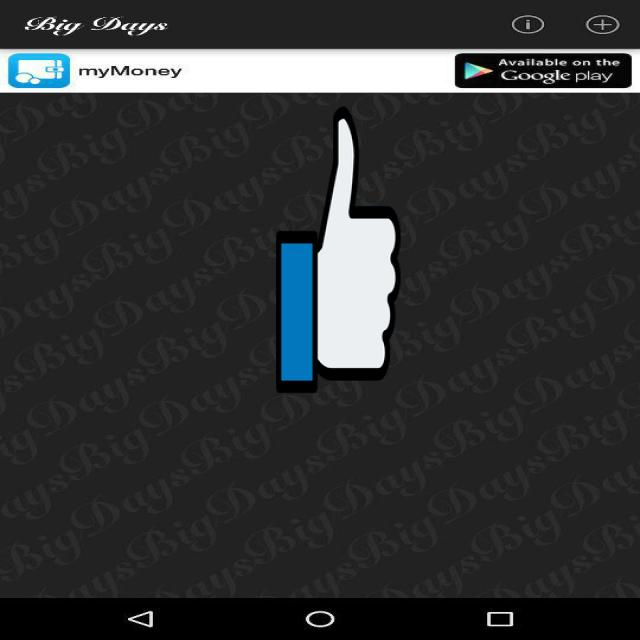privacy zuckering: (276, 100, 401, 399)
